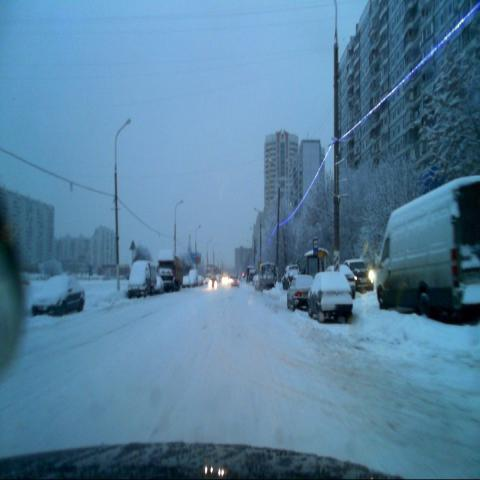5_16: (312, 236, 320, 258)
